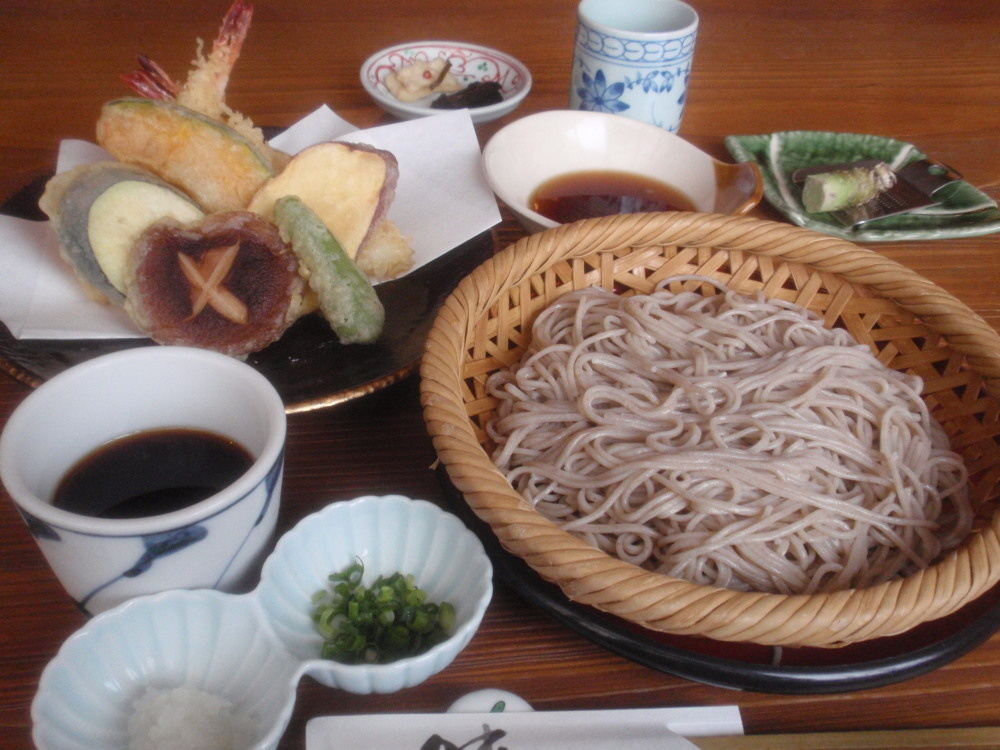Soba: (472, 278, 963, 599)
